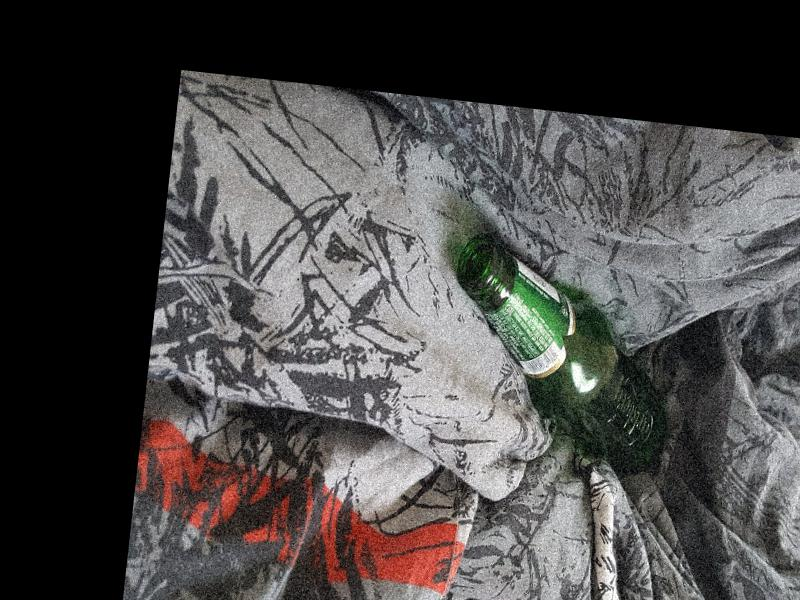Beer: (434, 235, 685, 477)
